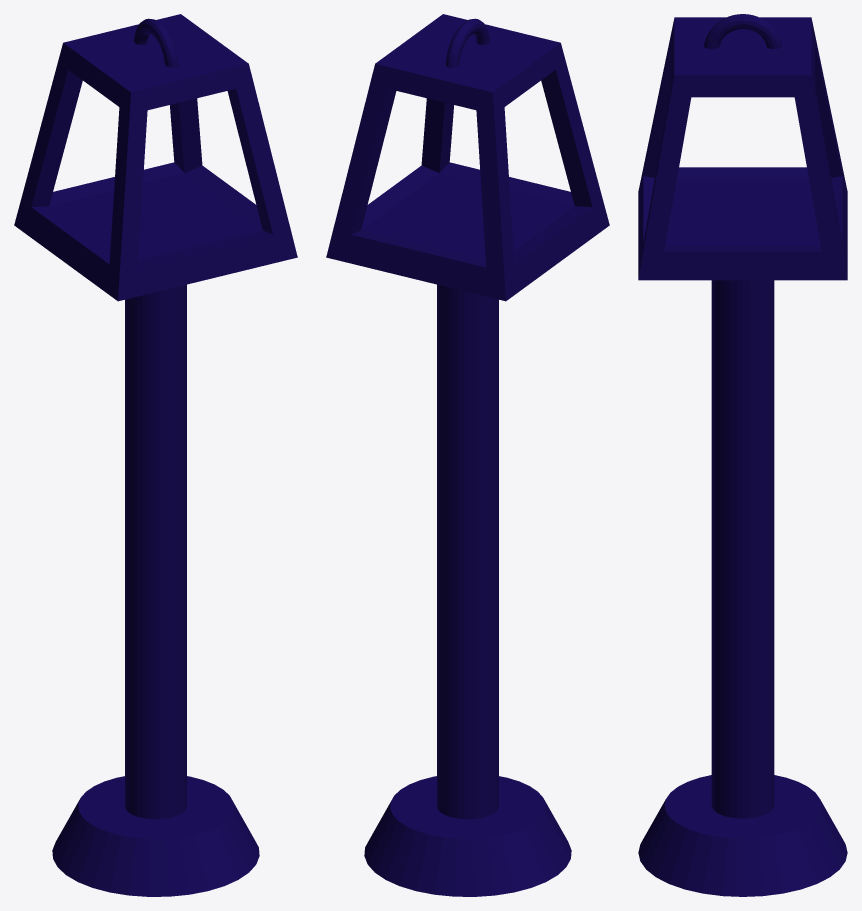
Rendered from Lamp.fbx.
The picture shows the model from 3 angles, left to right: view 1: azimuth 30°, elevation 25°; view 2: azimuth 150°, elevation 25°; view 3: azimuth 270°, elevation 25°; orthographic projection.
Visible parts, largest first — view 1: Torus; view 2: Torus; view 3: Torus.
Boxes of the visible parts, x1=… form: Torus: x1=14, y1=14, x2=297, y2=896; Torus: x1=326, y1=14, x2=609, y2=896; Torus: x1=638, y1=14, x2=847, y2=896.
Bounding box in the file's own units: 200 × 884 × 200.
Materials: 1 (1 with a texture image).
